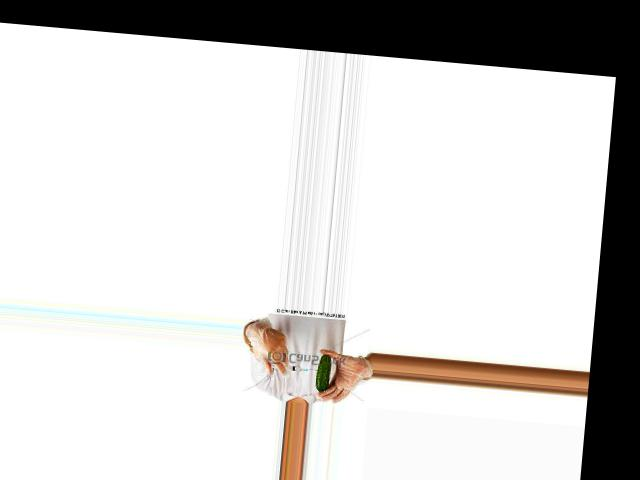cucumber: (316, 352, 333, 392)
